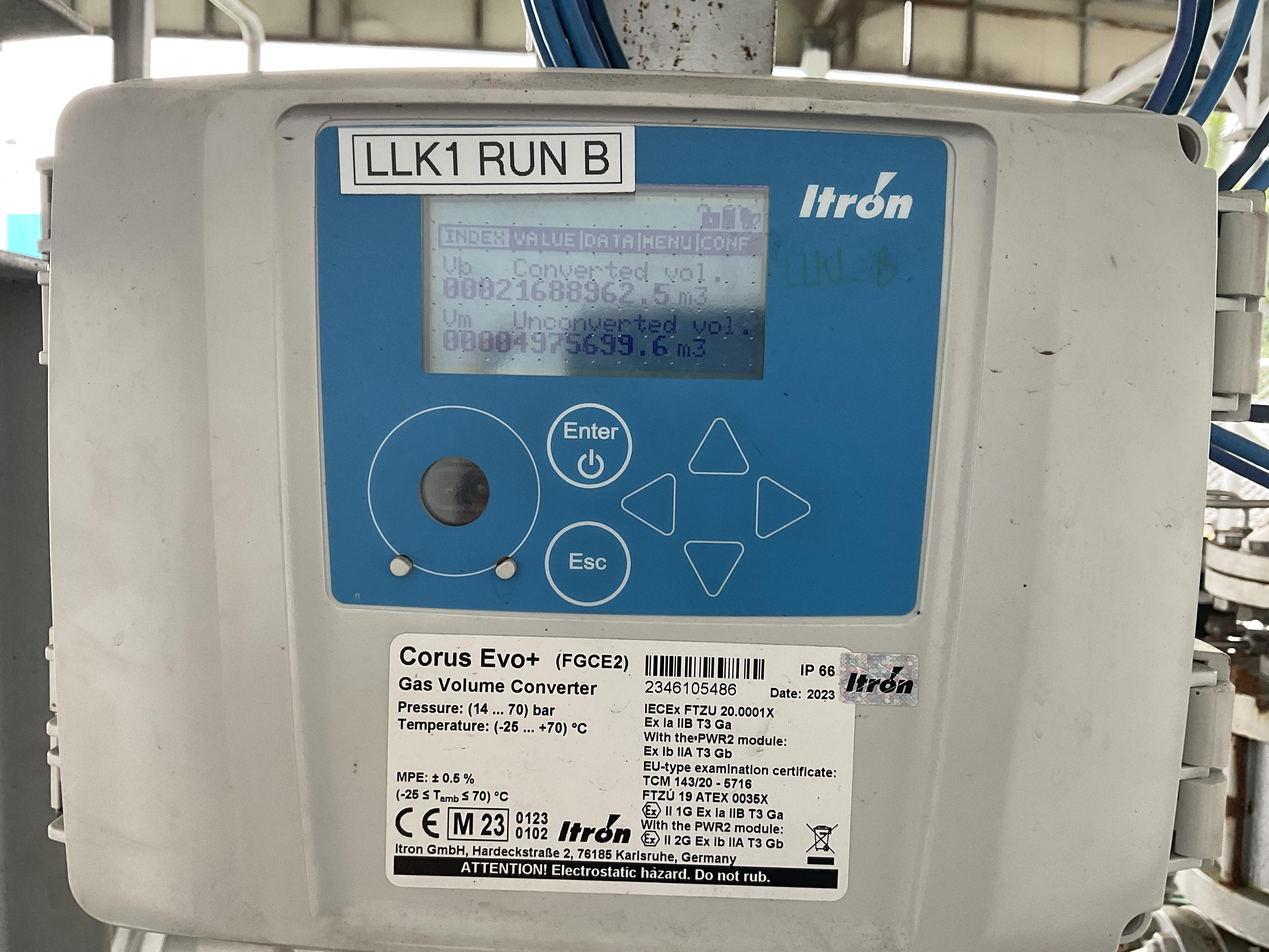digital_screen: (417, 179, 769, 380)
